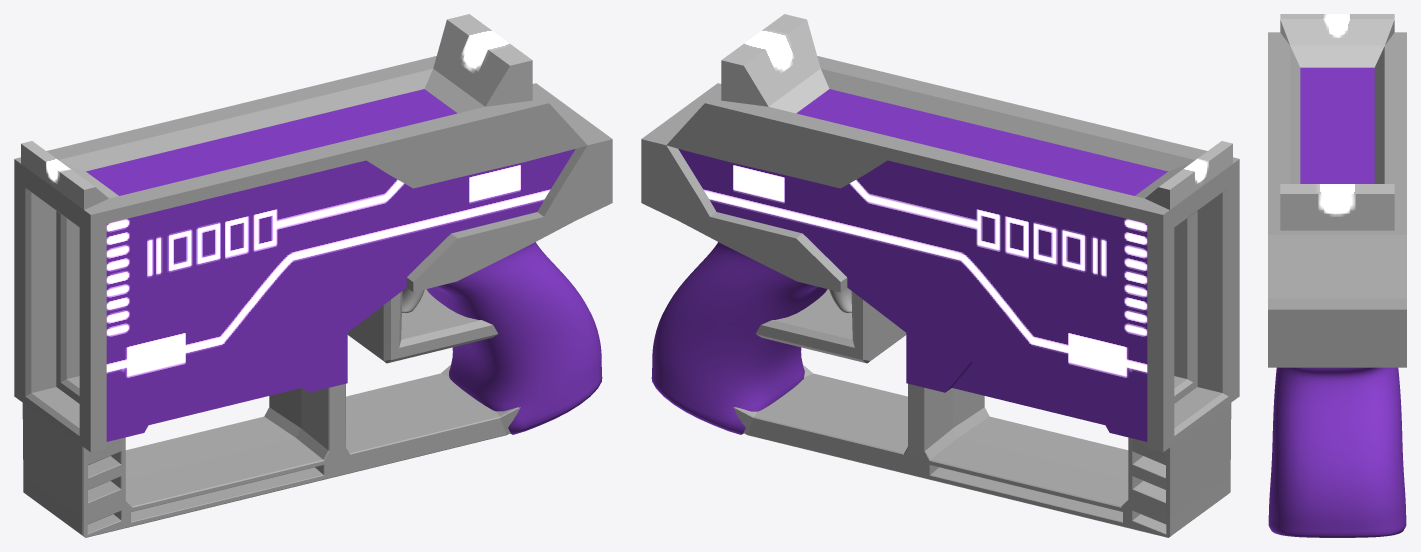
The model's file is Pistol.fbx.
The picture shows the model from 3 angles, left to right: view 1: azimuth 30°, elevation 25°; view 2: azimuth 150°, elevation 25°; view 3: azimuth 270°, elevation 25°; orthographic projection. The views are drawn at different scales.
Parts seen in each view (by area): view 1: Barrel.001; view 2: Barrel.001; view 3: Barrel.001.
Part boxes in pixels (x1=…): Barrel.001: x1=14, y1=14, x2=612, y2=537; Barrel.001: x1=641, y1=14, x2=1239, y2=537; Barrel.001: x1=1268, y1=14, x2=1406, y2=537.
Size of the model in its own units: 55.16 by 36.82 by 13.76.
